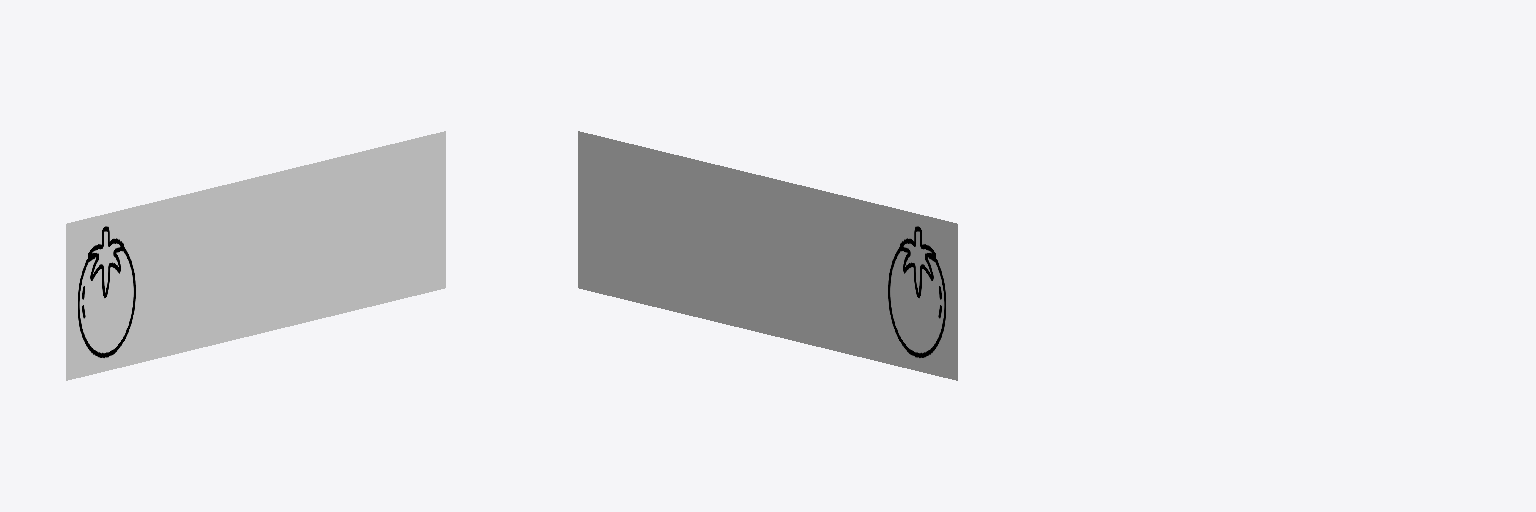
3 views of the same model, side by side, from view 1: azimuth 30°, elevation 25°; view 2: azimuth 150°, elevation 25°; view 3: azimuth 270°, elevation 25° (orthographic).
Visible parts, largest first — view 1: Plane.002; view 2: Plane.002; view 3: none.
Part boxes in pixels (x1,y1,x2,y2): Plane.002: (66, 131, 445, 380); Plane.002: (578, 131, 957, 380).
Bounding box in the file's own units: 0.9391 × 0.3724 × 0.
Materials: 1 (1 with a texture image).